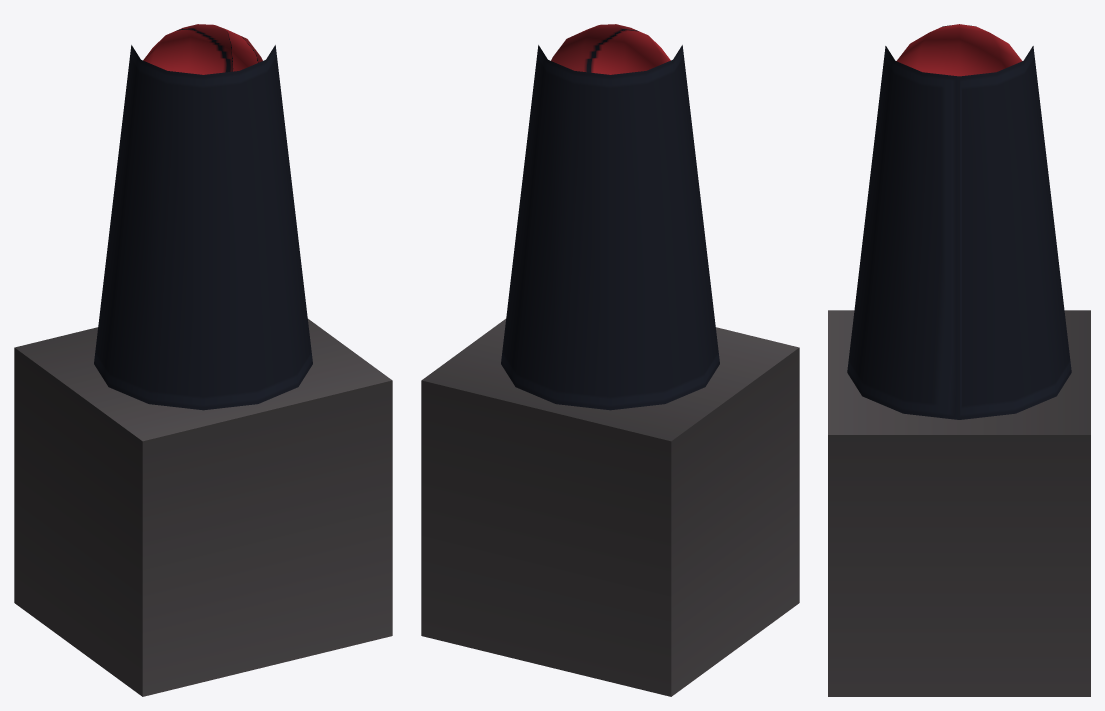
Rendered from iron_maiden.glb.
3 renders of one model, left to right at view 1: azimuth 30°, elevation 25°; view 2: azimuth 150°, elevation 25°; view 3: azimuth 270°, elevation 25°, orthographic. The views are drawn at different scales.
Parts seen in each view (by area): view 1: iron_maiden; view 2: iron_maiden; view 3: iron_maiden.
Boxes of the visible parts, x1,y1,x2,y2 form: iron_maiden: [14, 24, 392, 696]; iron_maiden: [421, 24, 799, 696]; iron_maiden: [828, 24, 1090, 696].
Size of the model in its own units: 0.9 by 2.03 by 0.8.
Materials: 1 (1 with a texture image).
